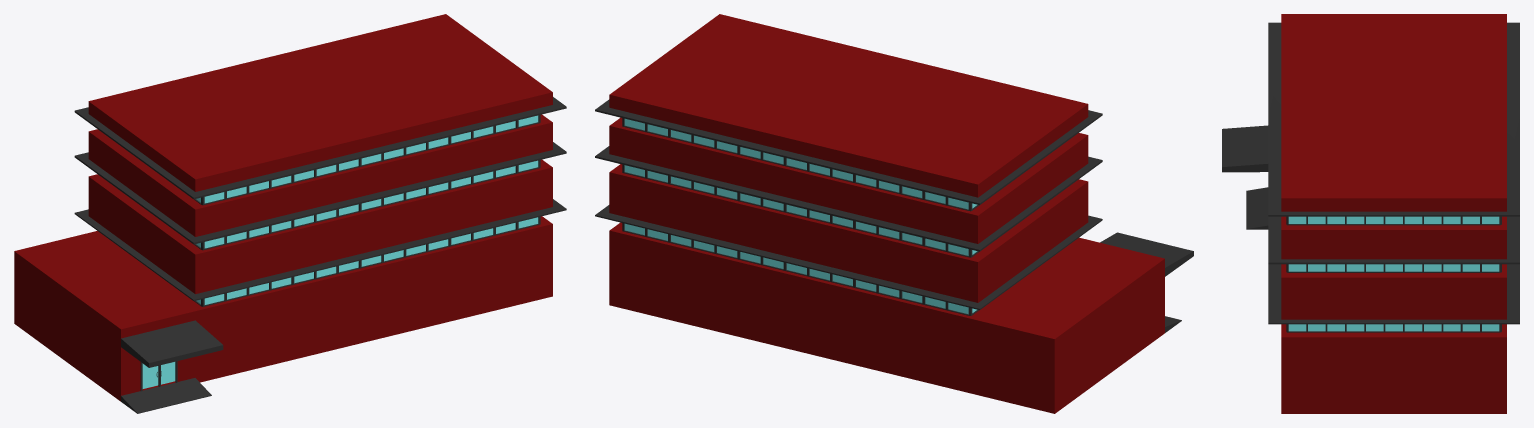
File: Building2.fbx
3 renders of one model, left to right at view 1: azimuth 30°, elevation 25°; view 2: azimuth 150°, elevation 25°; view 3: azimuth 270°, elevation 25°, orthographic. The views are drawn at different scales.
Parts seen in each view (by area): view 1: Edificio2; view 2: Edificio2; view 3: Edificio2.
Part boxes in pixels (x1,y1,x2,y2): Edificio2: (14,14,566,413); Edificio2: (595,14,1193,413); Edificio2: (1222,14,1519,413).
Bounding box in the file's own units: 1632 × 725 × 907.
